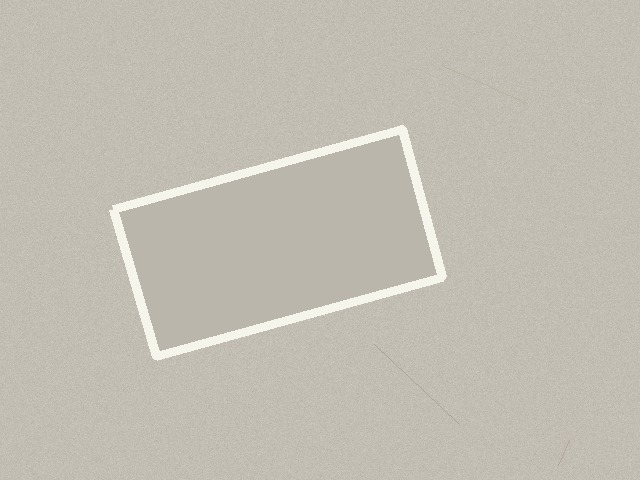parking_area: (113, 129, 442, 356)
